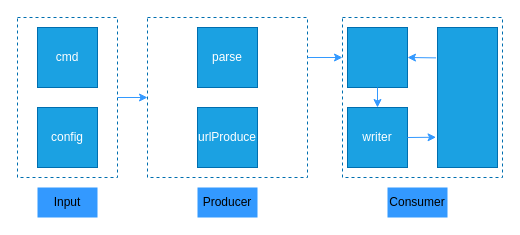
Some shapes in this 520 by 235 pixel diagram are drawn without their labels. Here are the shapes that lost their labels. From the top down, the centre of each, then its label:
At [377,57]: "download".
At [467,97]: "process".
